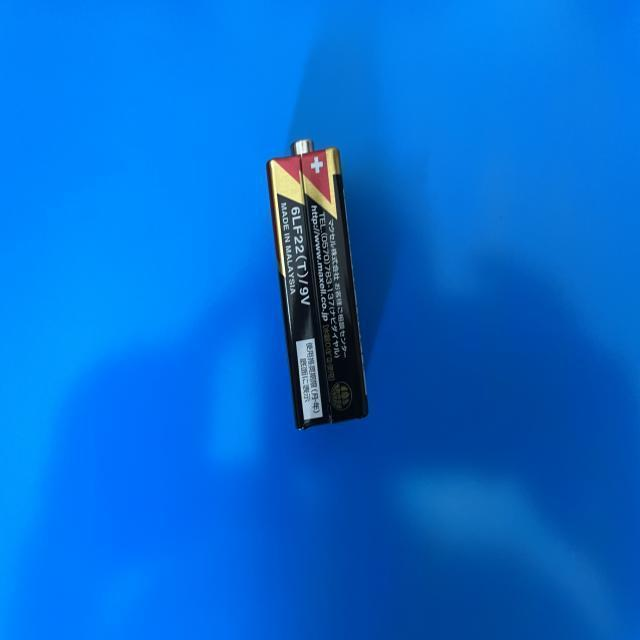9V: (266, 138, 370, 428)
